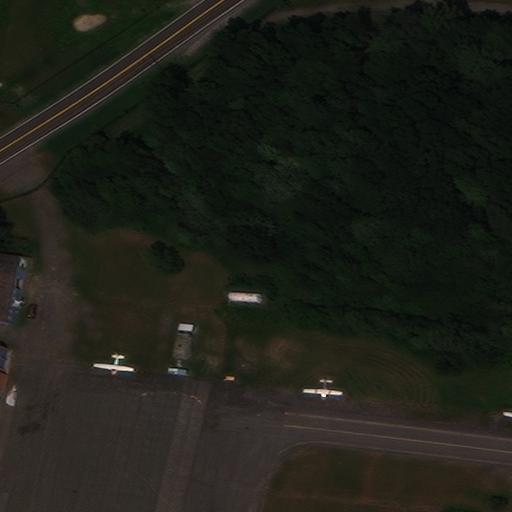Small Civil Transport: (93, 352, 132, 375), (303, 379, 341, 400)
